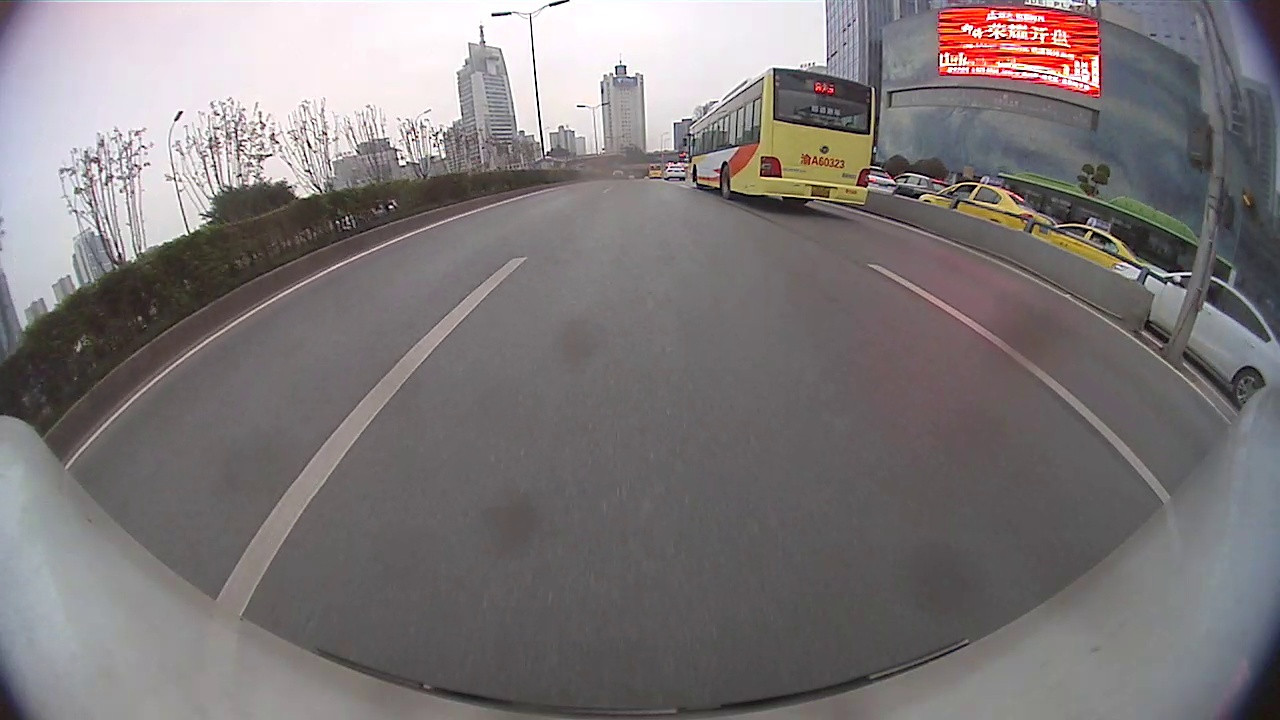bus: (680, 65, 880, 210)
car: (1108, 259, 1279, 412), (917, 179, 1047, 243), (1026, 220, 1148, 279)
rear: (1230, 367, 1265, 413), (717, 165, 734, 200)
